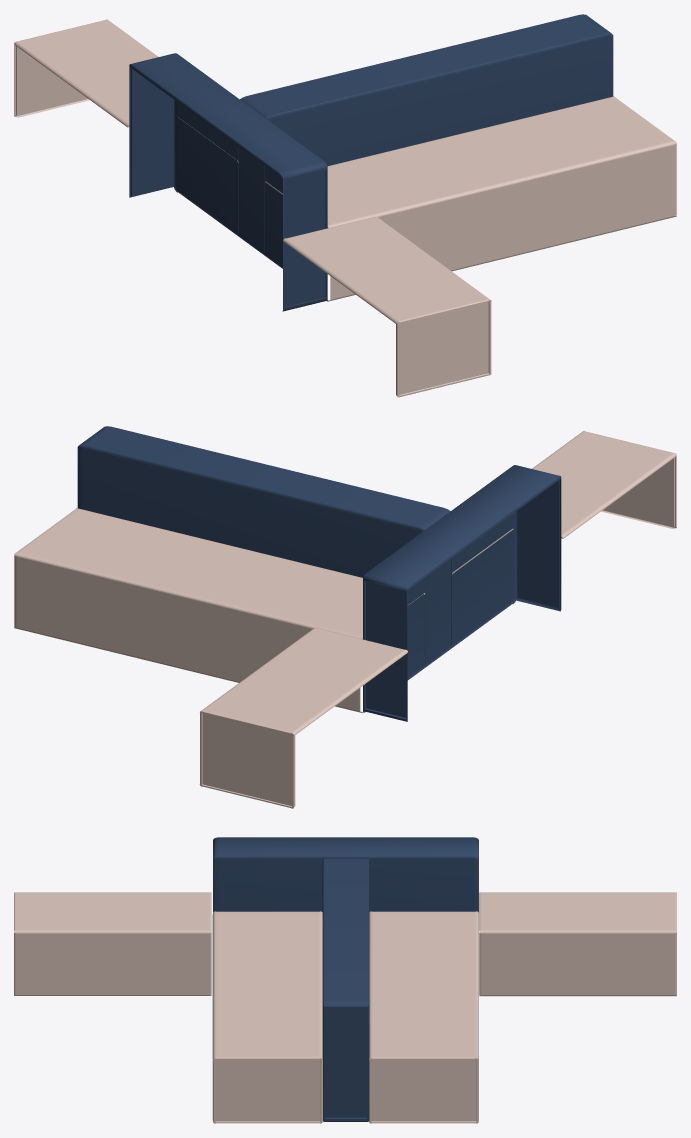
File: Sofa grande.fbx
The picture shows the model from 3 angles, top to bottom: view 1: azimuth 30°, elevation 25°; view 2: azimuth 150°, elevation 25°; view 3: azimuth 270°, elevation 25°; orthographic projection. The views are drawn at different scales.
Parts seen in each view (by area): view 1: Sofa2, Sofa; view 2: Sofa2, Sofa; view 3: Sofa2, Sofa.
Boxes of the visible parts, x1,y1,x2,y2 form: Sofa2: [14, 19, 676, 397]; Sofa: [129, 14, 613, 311]; Sofa2: [14, 431, 676, 808]; Sofa: [77, 426, 561, 721]; Sofa2: [14, 892, 676, 1123]; Sofa: [213, 837, 478, 1121].
Size of the model in its own units: 1090 by 366 by 1830.
